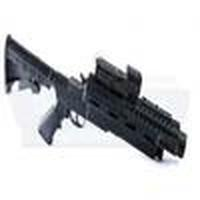gun: (3, 32, 186, 163)
